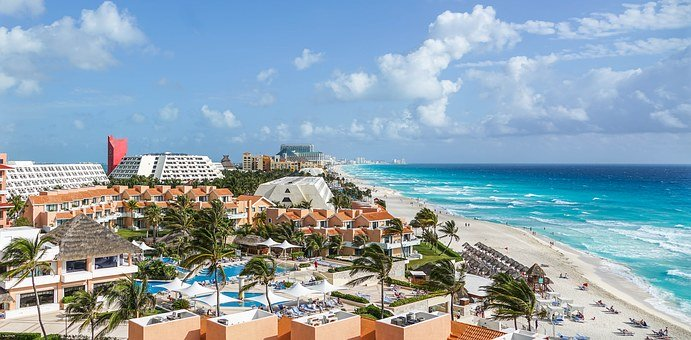beach: (432, 160, 681, 308)
sky: (1, 1, 688, 164)
vilage: (4, 159, 498, 340)
